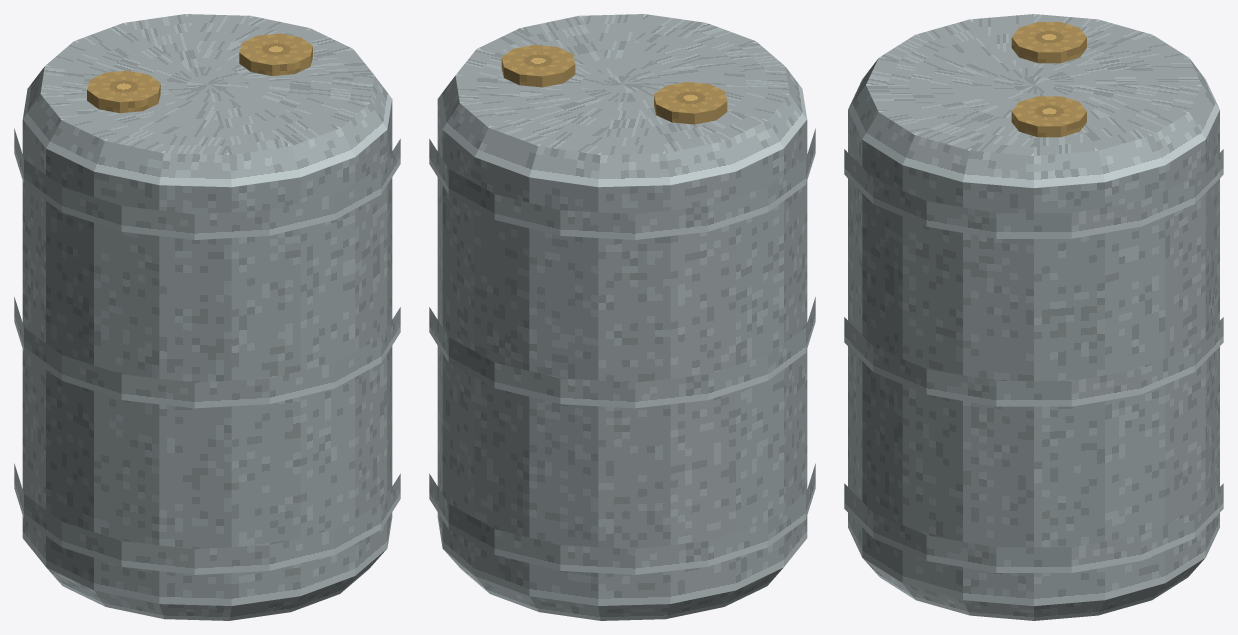
File: 30gal_drum_aluminum.glb
The picture shows the model from 3 angles, left to right: view 1: azimuth 30°, elevation 25°; view 2: azimuth 150°, elevation 25°; view 3: azimuth 270°, elevation 25°; orthographic projection.
Visible parts, largest first — view 1: block_large aluminum tank, block_rolled reinforcing seam (×3), block_raised fill cap (×2); view 2: block_large aluminum tank, block_rolled reinforcing seam (×3), block_raised fill cap (×2); view 3: block_large aluminum tank, block_rolled reinforcing seam (×3), block_raised fill cap (×2).
Part boxes in pixels (x1,y1,x2,y2): block_large aluminum tank: [22, 14, 392, 620]; block_rolled reinforcing seam (×3): [14, 128, 400, 574]; block_raised fill cap (×2): [87, 33, 312, 113]; block_large aluminum tank: [437, 14, 807, 620]; block_rolled reinforcing seam (×3): [429, 128, 815, 574]; block_raised fill cap (×2): [501, 45, 727, 124]; block_large aluminum tank: [848, 14, 1219, 620]; block_rolled reinforcing seam (×3): [844, 149, 1223, 572]; block_raised fill cap (×2): [1011, 22, 1086, 137].
Bounding box in the file's own units: 0.6983 × 0.9676 × 0.6983.
Materials: 2 (2 with a texture image).
